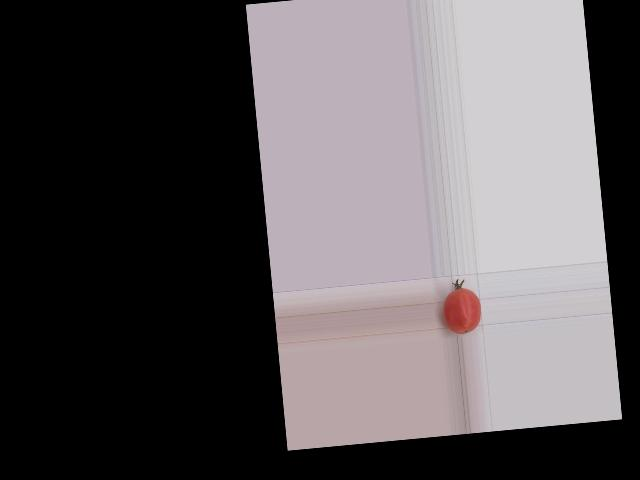tomato: (441, 286, 483, 335)
